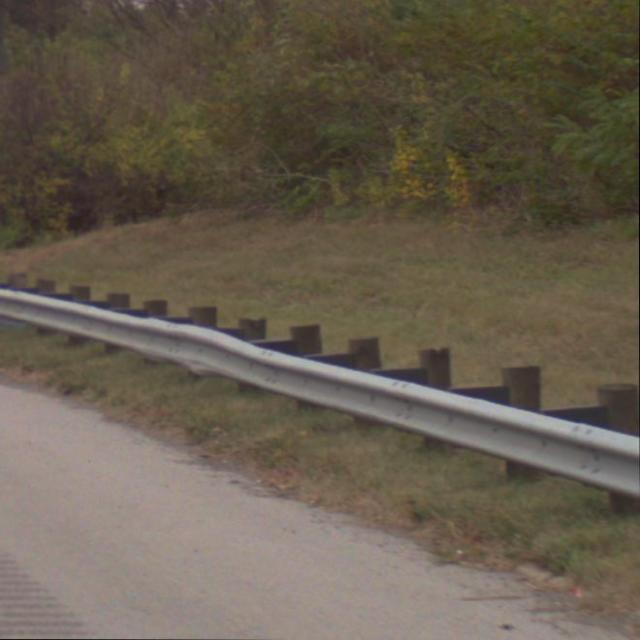Guard rail: (0, 269, 640, 529)
